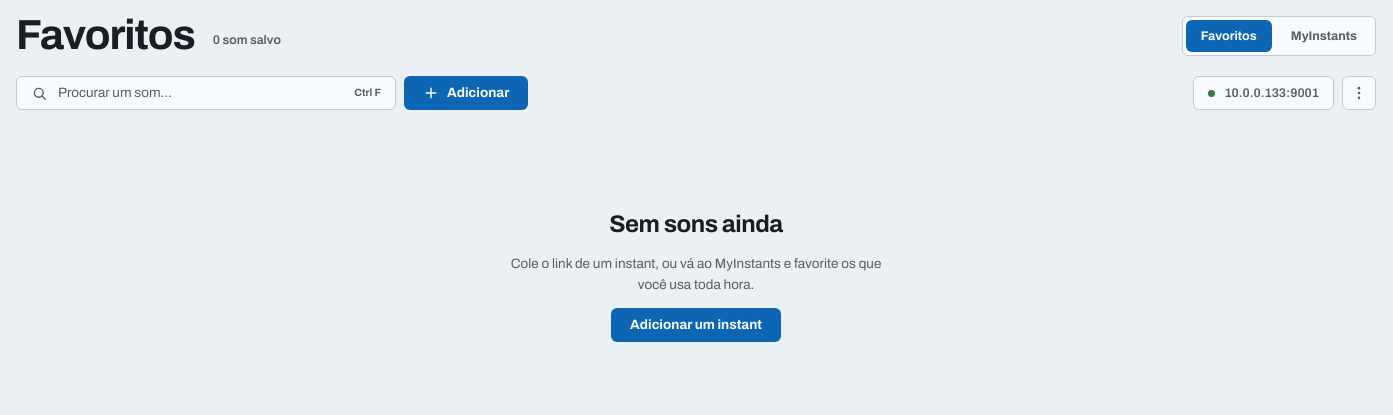
it: server picker › lists the discovered servers with the local one marked
The width and height of the screenshot is (1393, 415).
Click the button titled "Trocar de servidor": (1264, 93) [1193,76,1334,110]
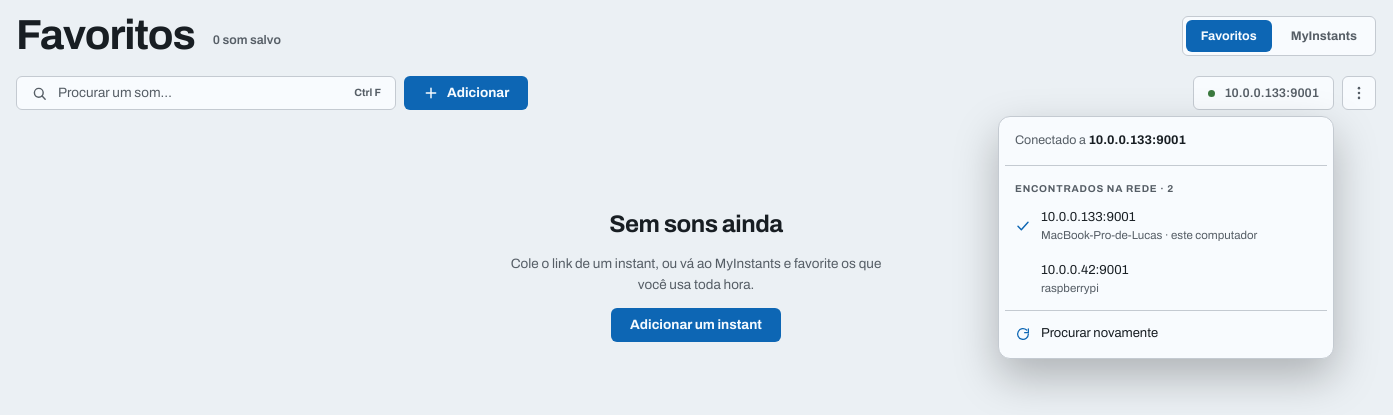
Now the text "Conectado a 10.0.0.133:9001" is shown, box [1015,133,1186,147]
Now the menu item "10.0.0.133:9001 MacBook-Pro-de-Lucas · este computador" is shown, box [1015,210,1257,241]
Now the text "raspberrypi" is shown, box [1041,282,1099,294]
